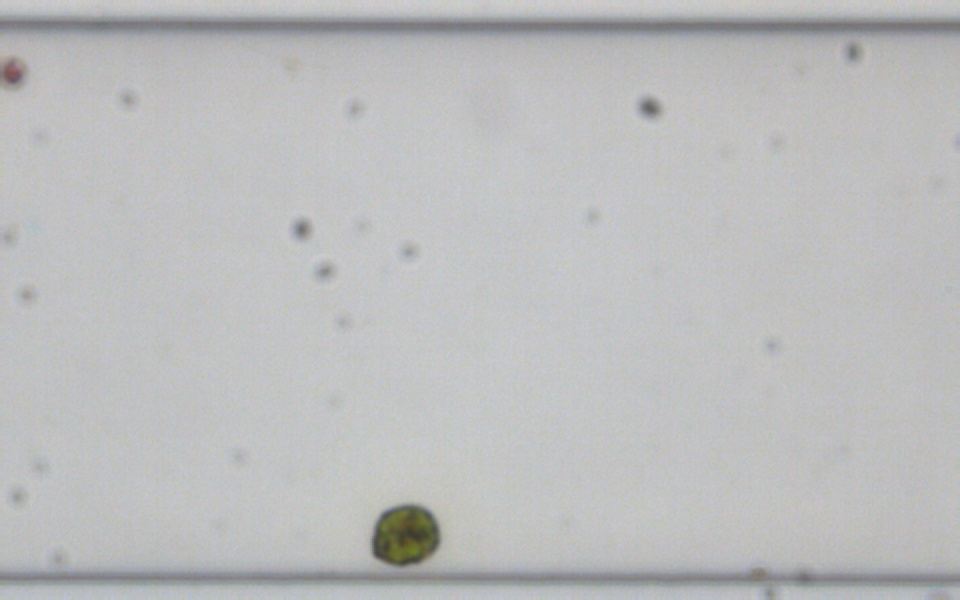Haematococcus: (366, 501, 444, 567)
Porphyridium: (0, 57, 25, 85)
